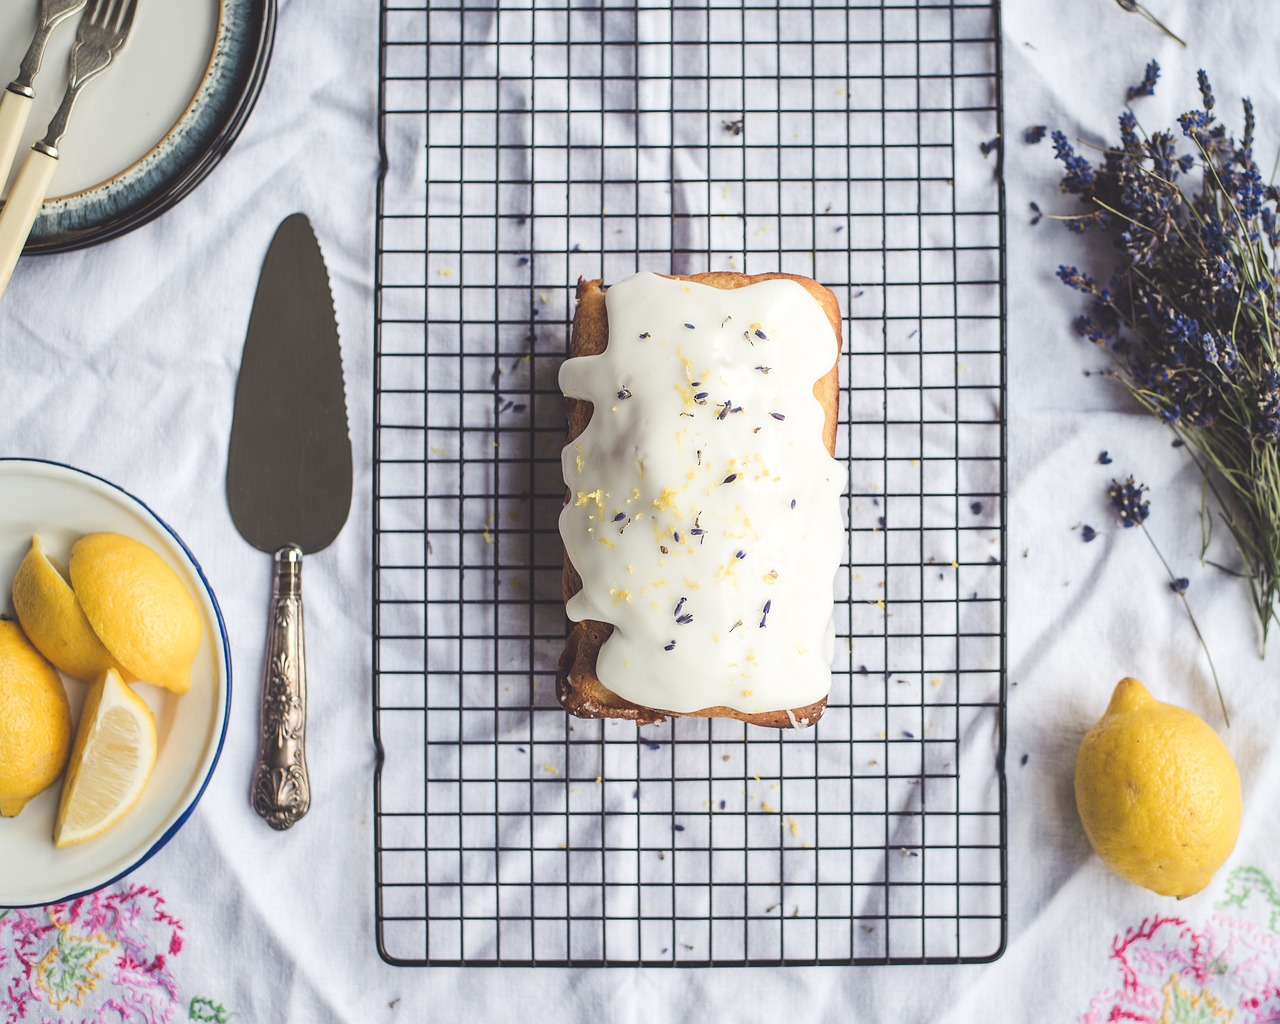knife: (208, 202, 364, 841)
